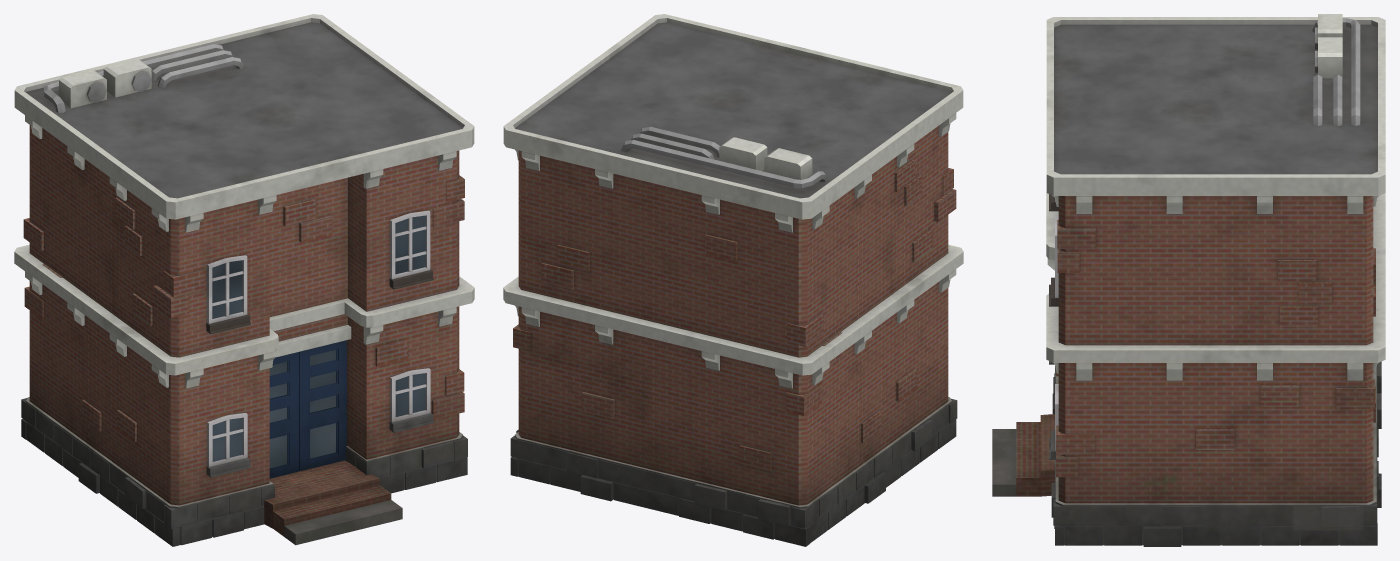
File: building_2Story_Center.glb
The picture shows the model from 3 angles, left to right: view 1: azimuth 30°, elevation 25°; view 2: azimuth 150°, elevation 25°; view 3: azimuth 270°, elevation 25°; orthographic projection. The views are drawn at different scales.
Parts seen in each view (by area): view 1: 2Story_Center_medium; view 2: 2Story_Center_medium; view 3: 2Story_Center_medium.
Part boxes in pixels (box(x1,y1,x2,y2)): 2Story_Center_medium: box(14, 14, 474, 546); 2Story_Center_medium: box(503, 14, 963, 546); 2Story_Center_medium: box(992, 14, 1385, 546).
Size of the model in its own units: 2.42 by 2.74 by 2.5.
2 materials, 2 textured.
